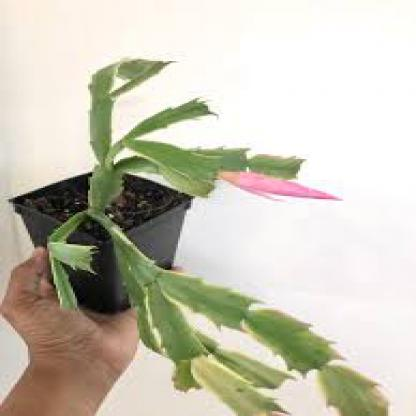Aglonema: (60, 29, 416, 287)
